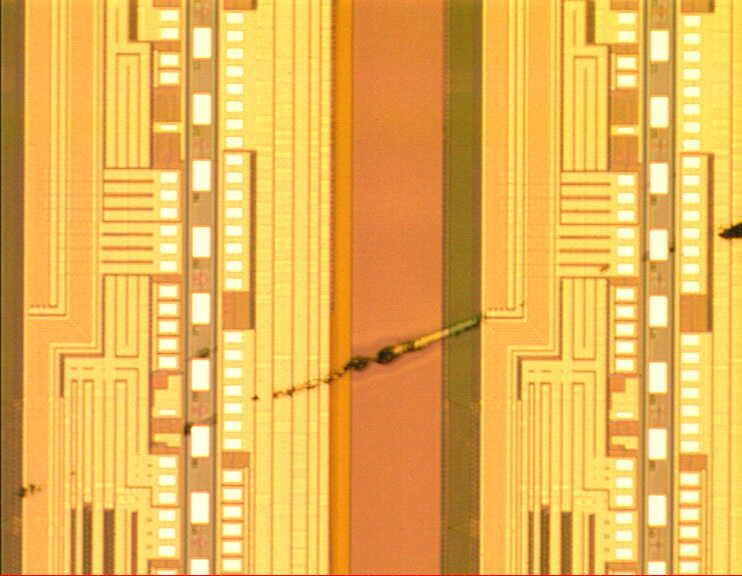SCRATCH: (2, 213, 742, 516)
